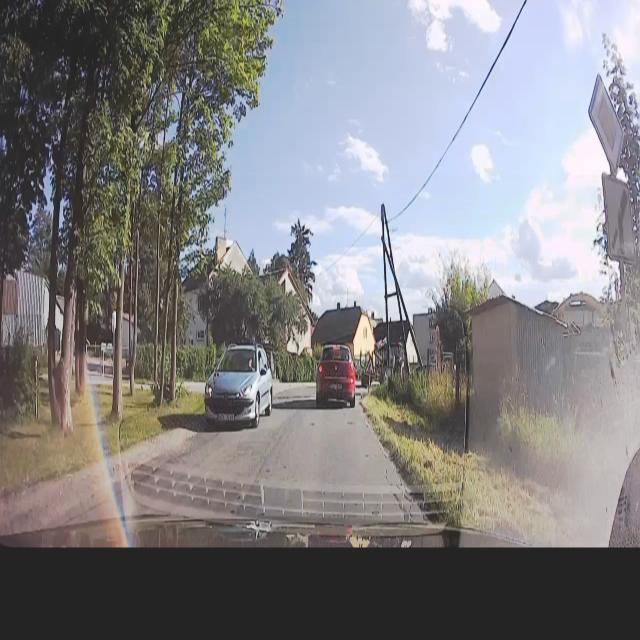Priority road: (583, 70, 627, 176)
